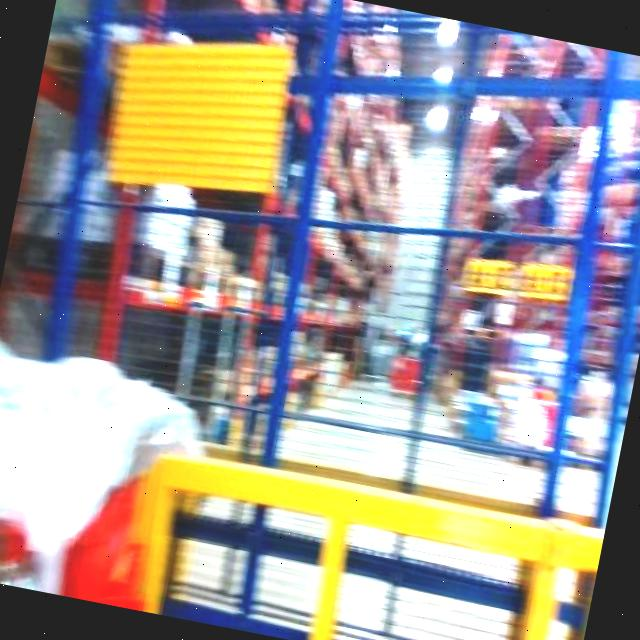ground: (0, 289, 627, 640)
pallet: (113, 435, 605, 640)
